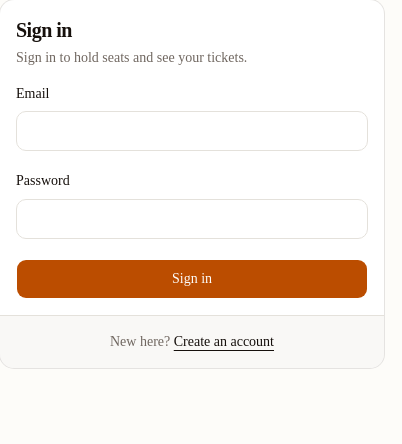
Test case: LoginForm › says how long to wait when rate-limited
The image size is (402, 444).
In the field labelled "Email": (192,131) top-left (16, 111), bottom-right (368, 151), type "ann@example.com"
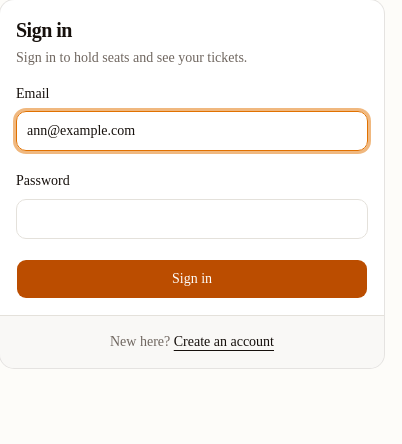
In the password field labelled "Password": (192,218) top-left (16, 198), bottom-right (368, 238), type "secret-password"
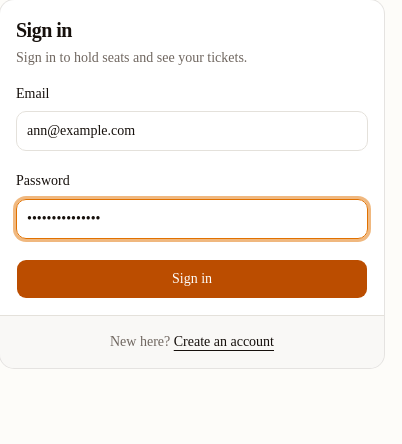
Click the button "Sign in": (192,278) top-left (16, 258), bottom-right (368, 298)
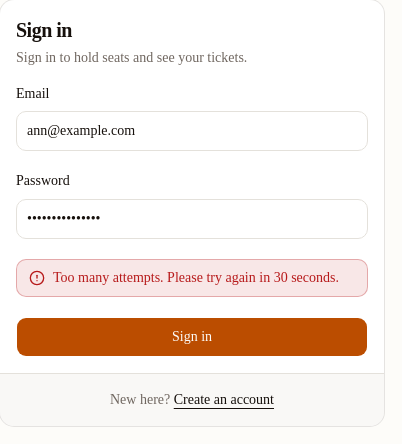
Check: the message reads "Too many attempts. Please try again in 30 seconds.", box top-left (53, 270), bottom-right (339, 284)
